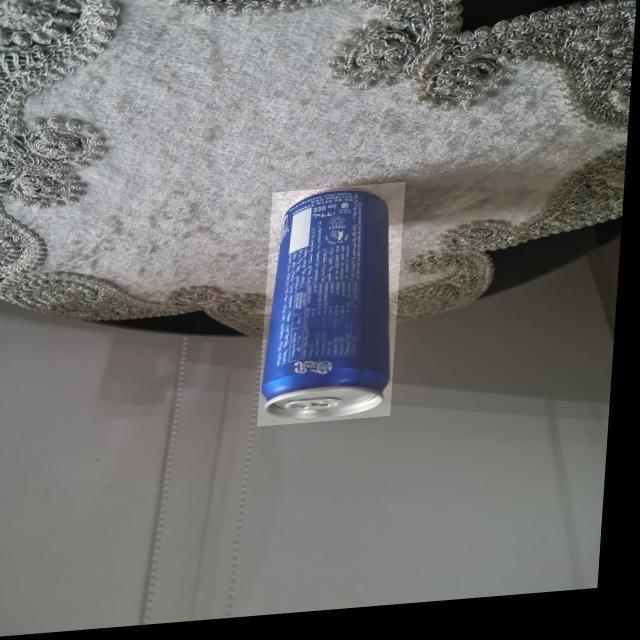trash: (250, 180, 394, 424)
